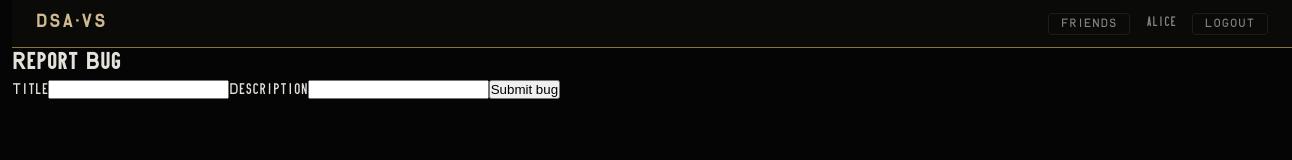
Test: reports › validates bug report required fields
The width and height of the screenshot is (1292, 160).
Click the button "Submit bug": (524,90) [489,80,560,99]
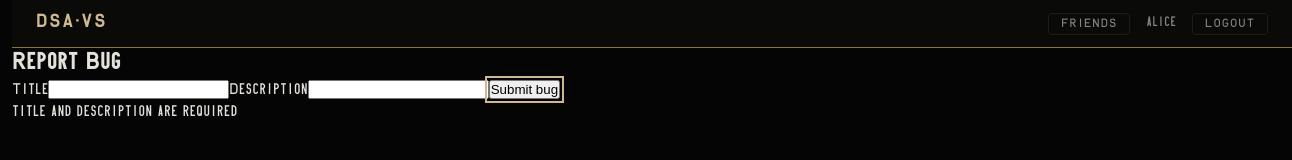
Result: the message shows "required" at [12,106,237,119]
